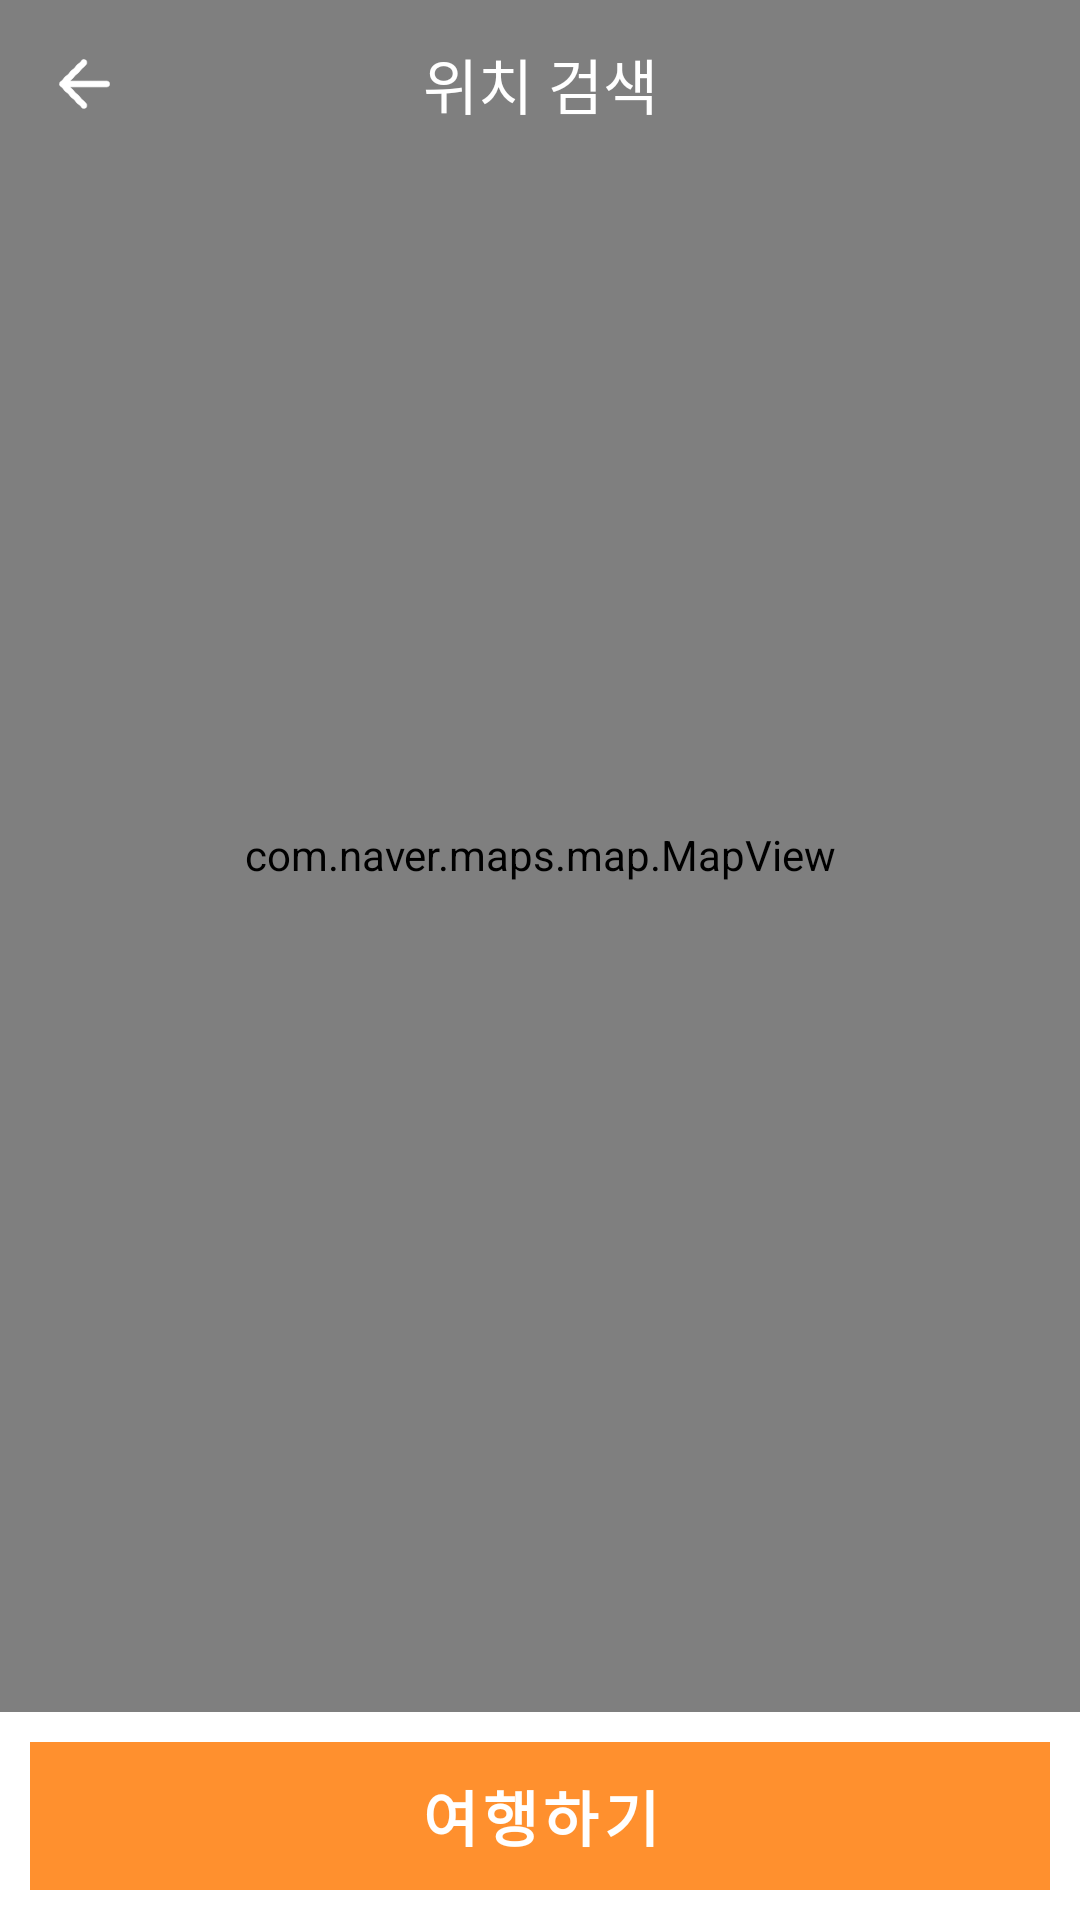

Icon click points for this 1080 × 1920 phone screenshot, format (x,y):
back: (84,84)
